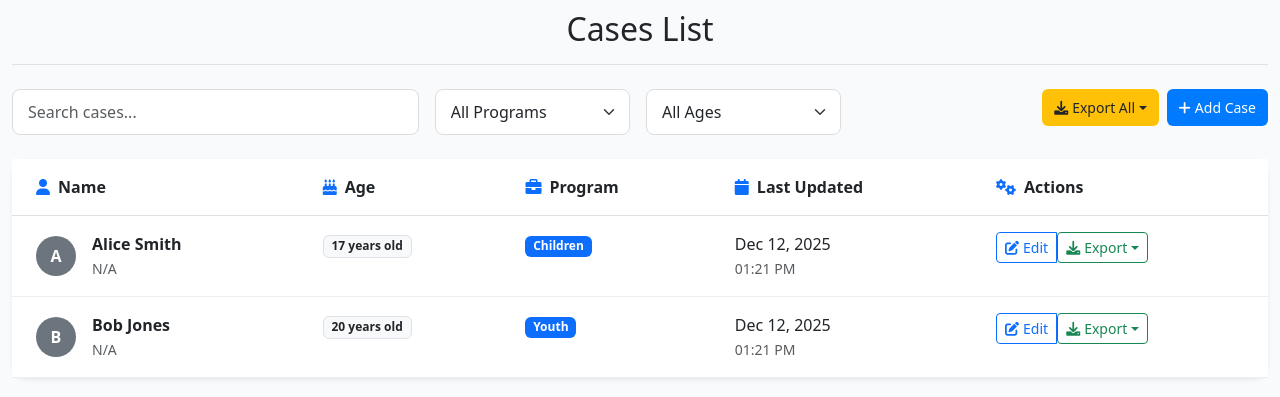
Scenario: filters cases by search and excludes archived
Check: the text "Alice Smith" is shown, box [92, 232, 182, 256]
Check: the text "Bob Jones" is shown, box [92, 313, 170, 337]
In the field with placeholder "Search cases...": (215, 112) [12, 89, 419, 135], type "Alice"
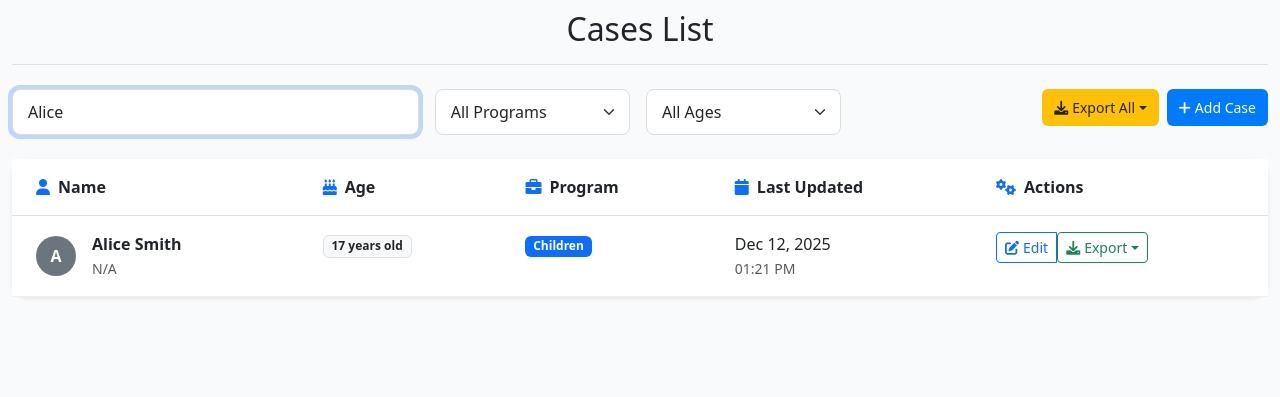
Check: the text "Alice Smith" is shown, box [92, 232, 182, 256]
Check: the text "Bob Jones" is gone
